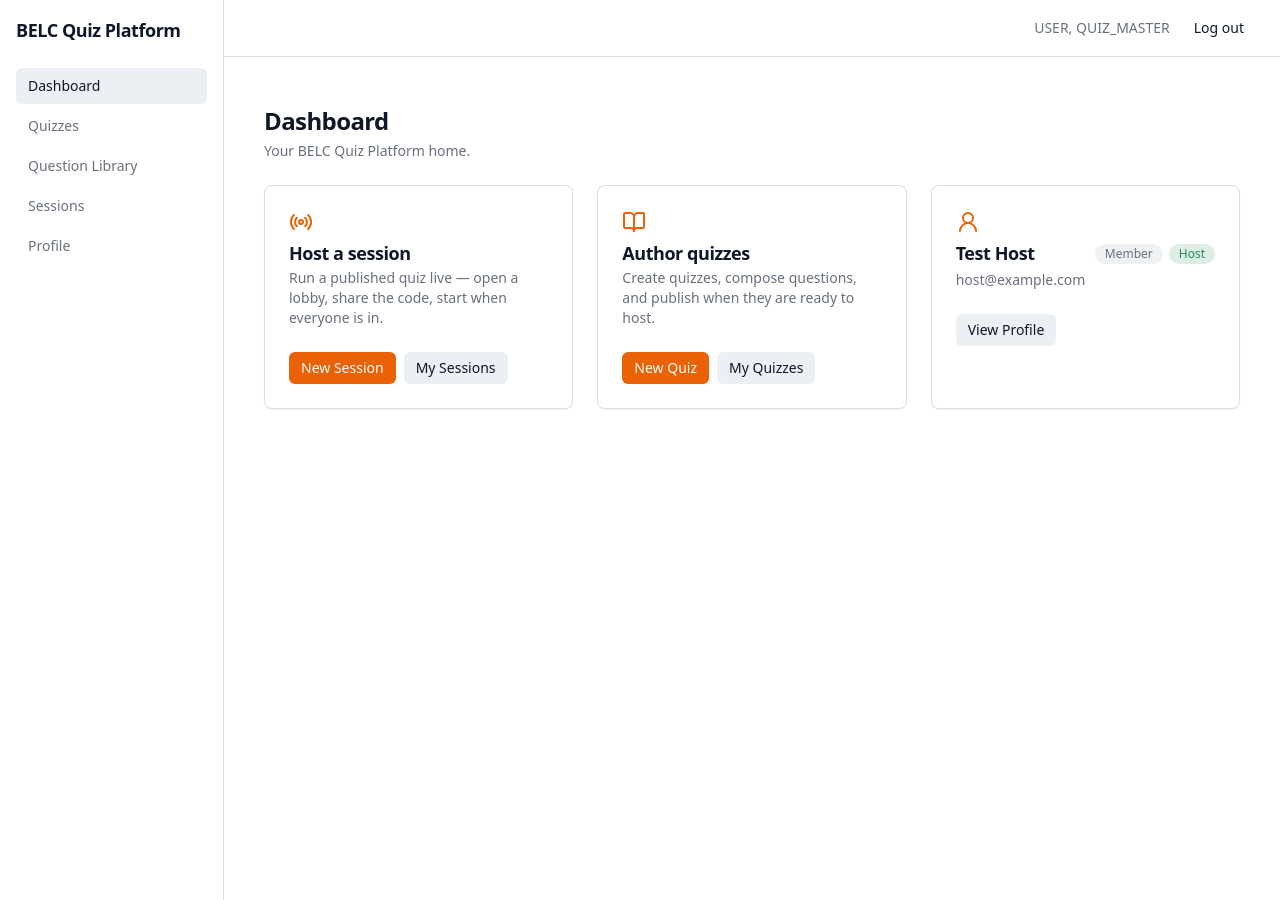
Scenario: authentication › logs out from the dashboard back to the public area
What coordinates should you click on to do the following:
click the button "Log out"
I would click on:
 (1219, 28)
Its box is [1182, 12, 1256, 44].
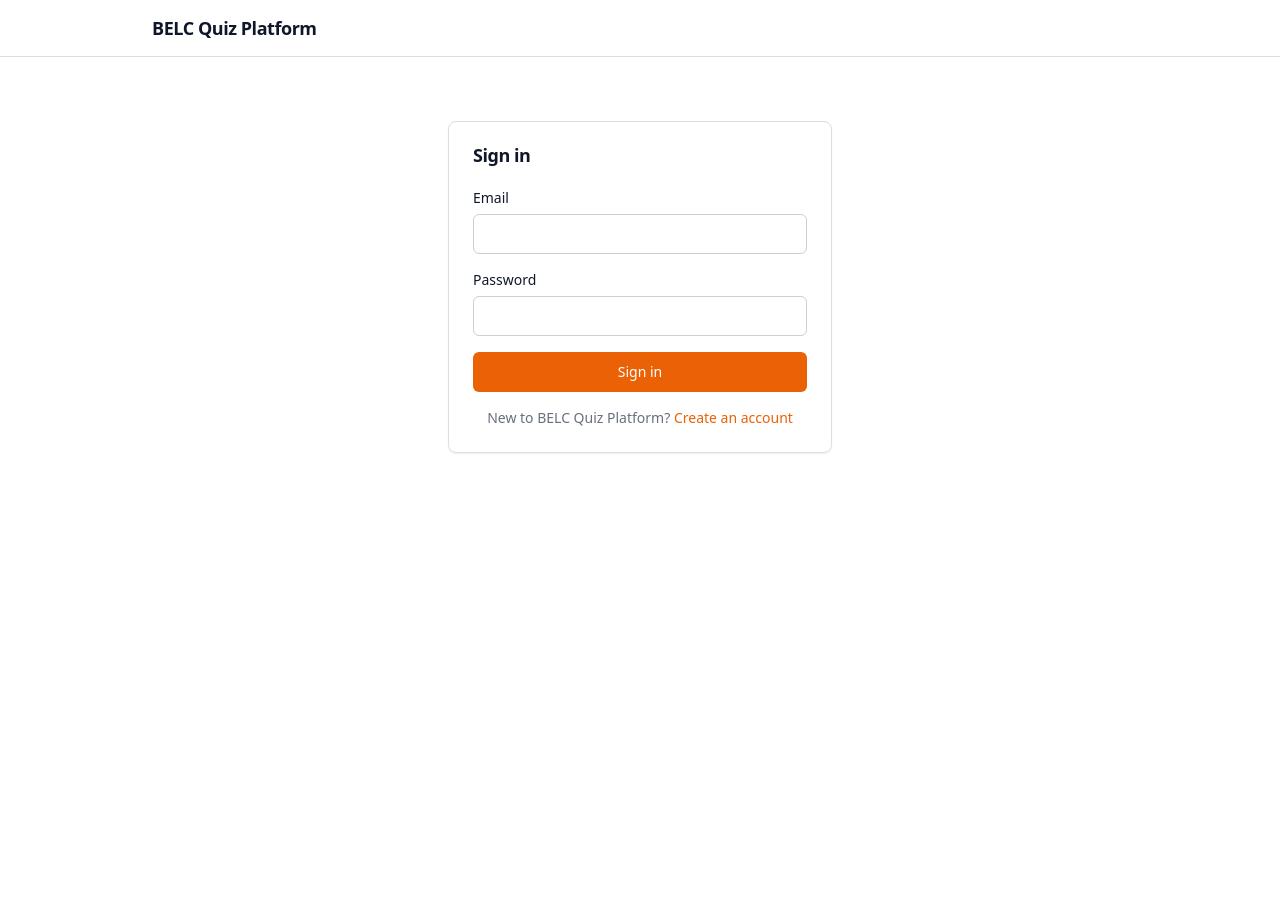
Expected: the heading "Sign in" is shown, [473, 143, 530, 167]
